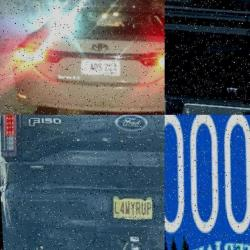LicensePlate: (164, 115, 250, 239), (110, 194, 151, 222), (75, 58, 127, 80)
